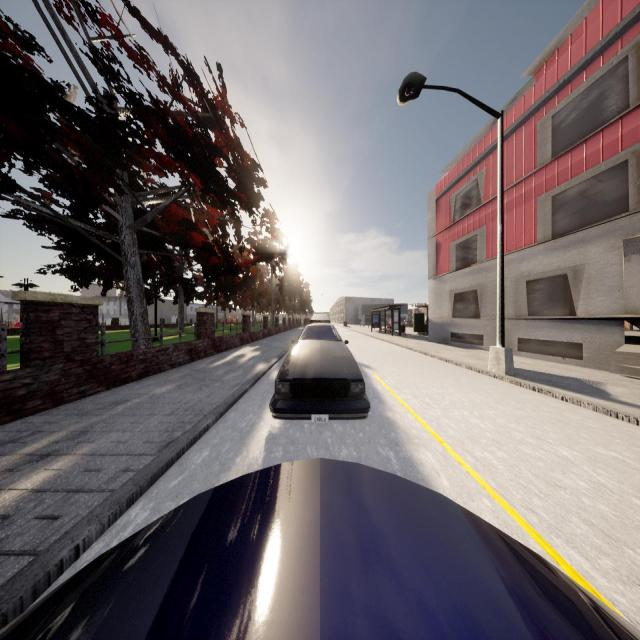Vehicle: (0, 457, 639, 640), (270, 323, 370, 418), (310, 312, 331, 324)
